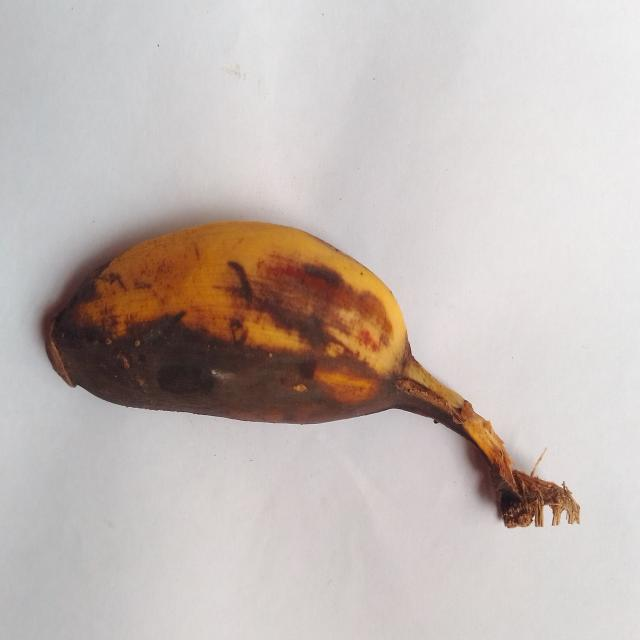banana: (47, 223, 579, 526)
